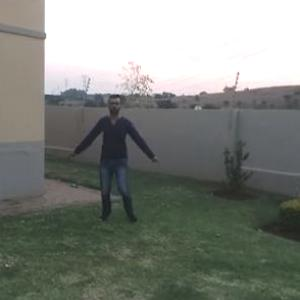land: (73, 95, 172, 221)
